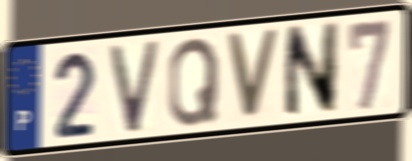2: (48, 44, 101, 145)
7: (346, 16, 394, 114)
N: (282, 19, 342, 122)
Q: (165, 34, 221, 130)
V: (223, 28, 282, 123), (107, 37, 163, 137)
